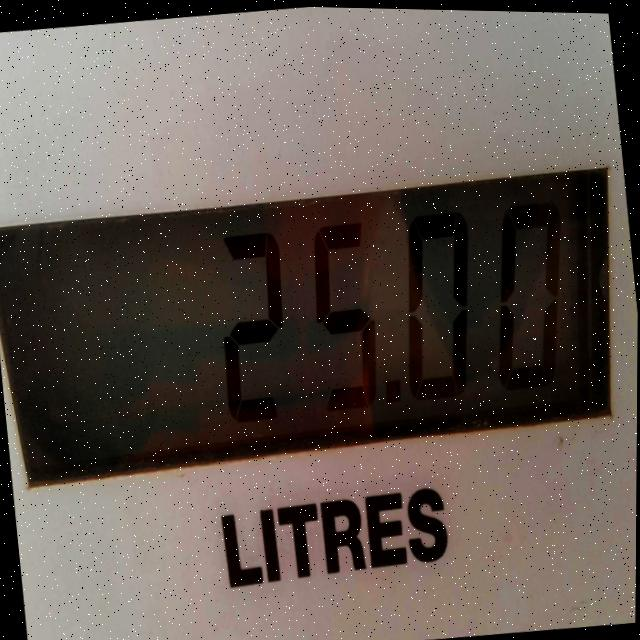.: (384, 373, 402, 401)
0: (484, 194, 576, 388), (396, 215, 481, 401)
2: (212, 226, 295, 427)
5: (309, 215, 387, 414)
